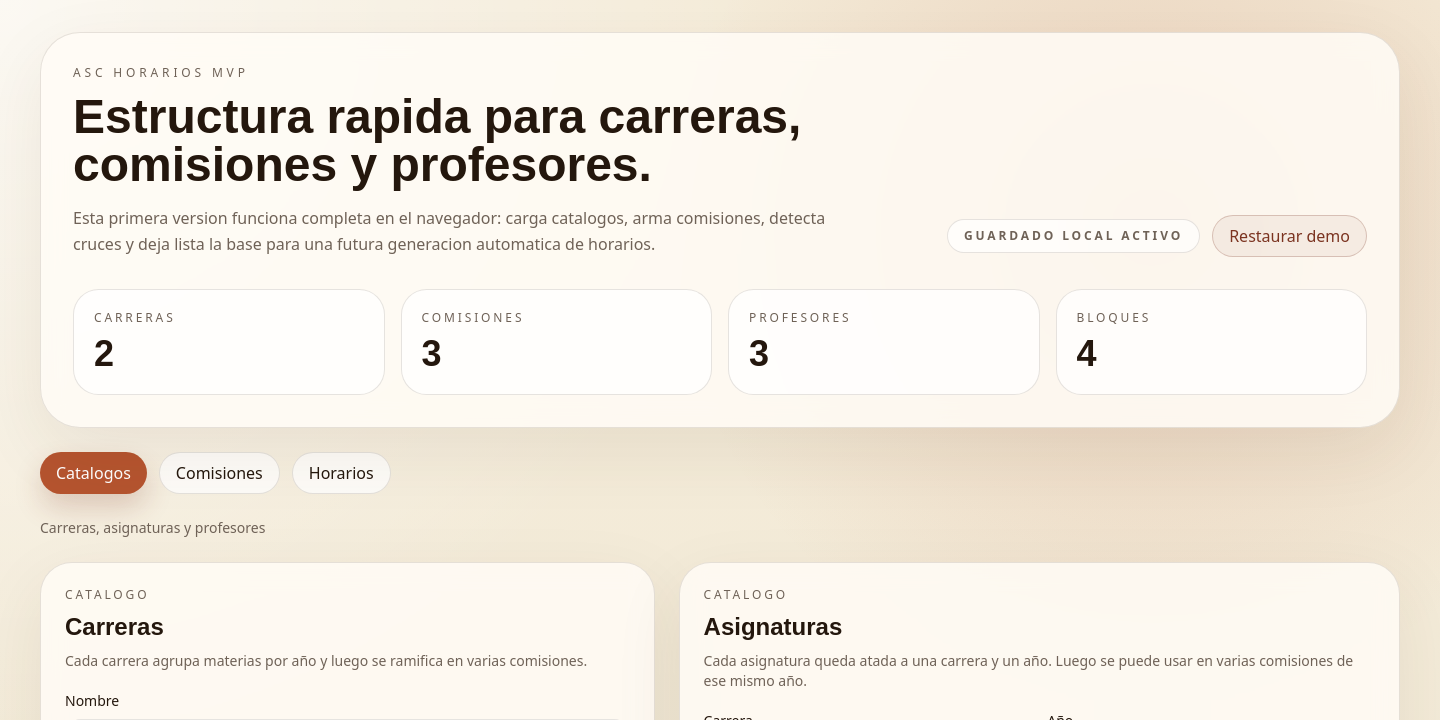
Test case: AppShell › shows pending blocks in the board view too
Click the button "Horarios": (341, 473) [292, 452, 391, 494]
(page scrolled)
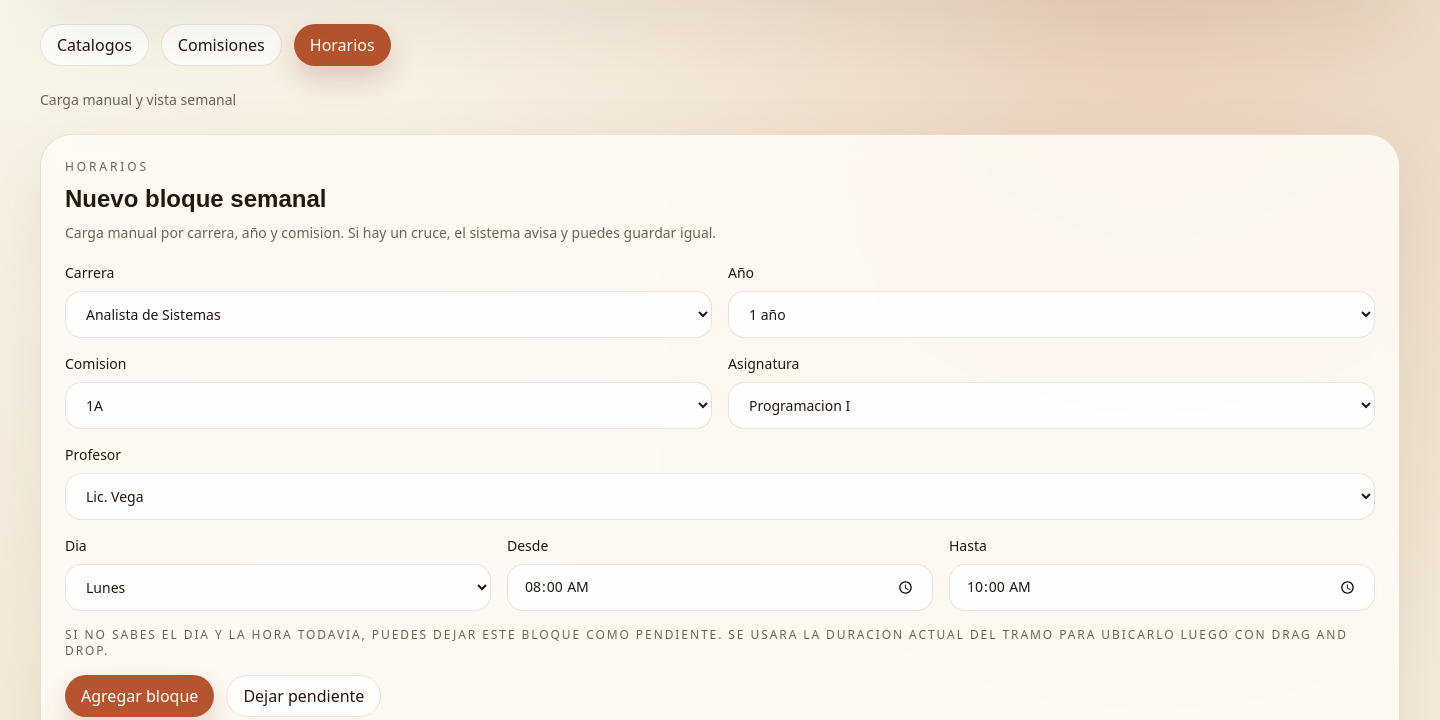
Select "Arquitectura de Computadoras" in the dropdown labelled "Asignatura": (1052, 406) [728, 382, 1375, 429]
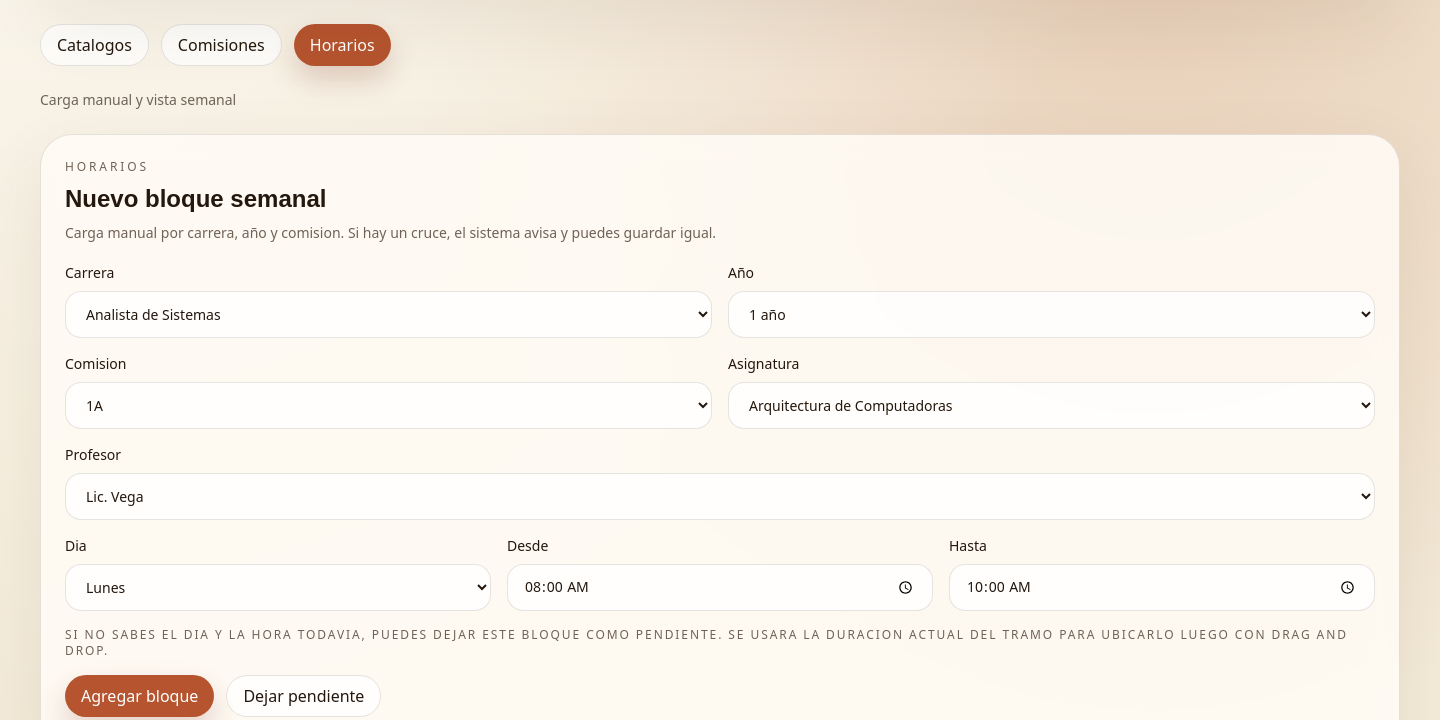
Click the button "Dejar pendiente": (304, 696) [226, 675, 381, 717]
(page scrolled)
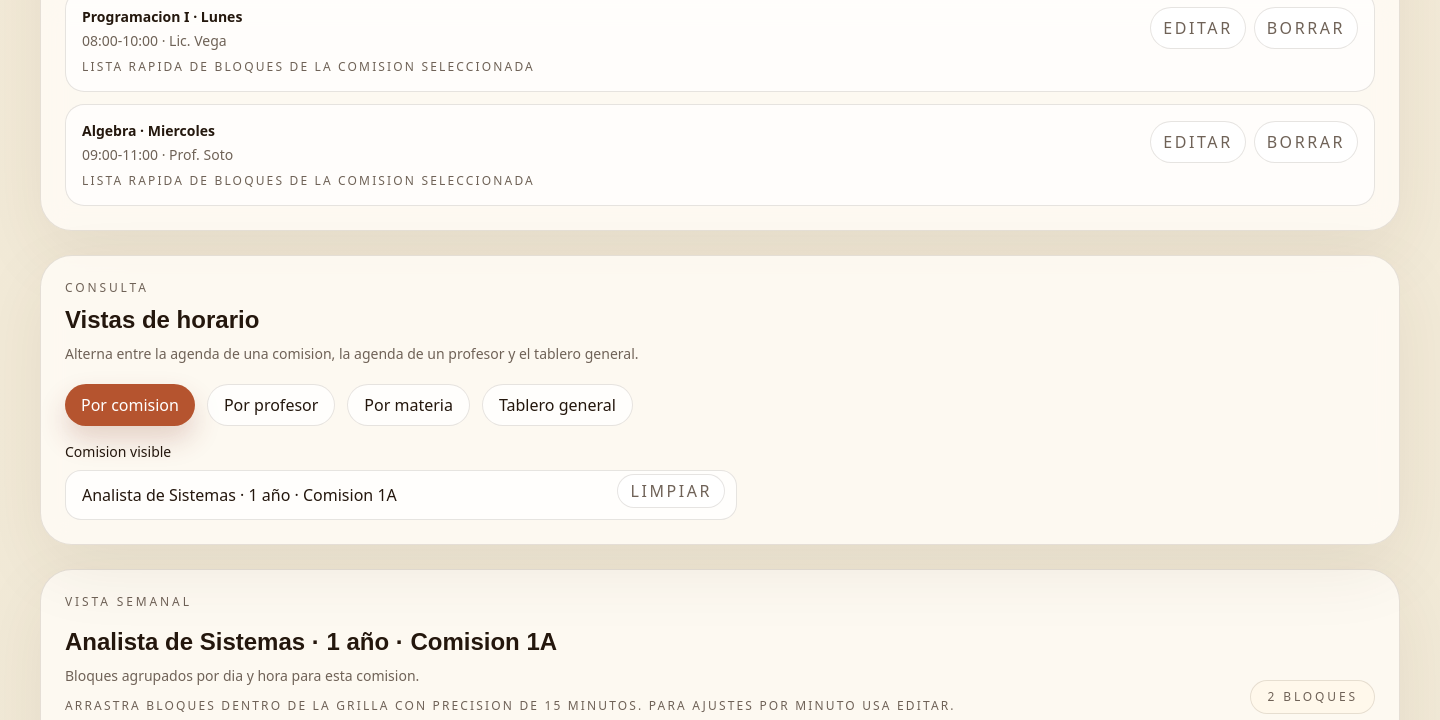
Click the button "Tablero general": (557, 405) [482, 384, 633, 426]
(page scrolled)
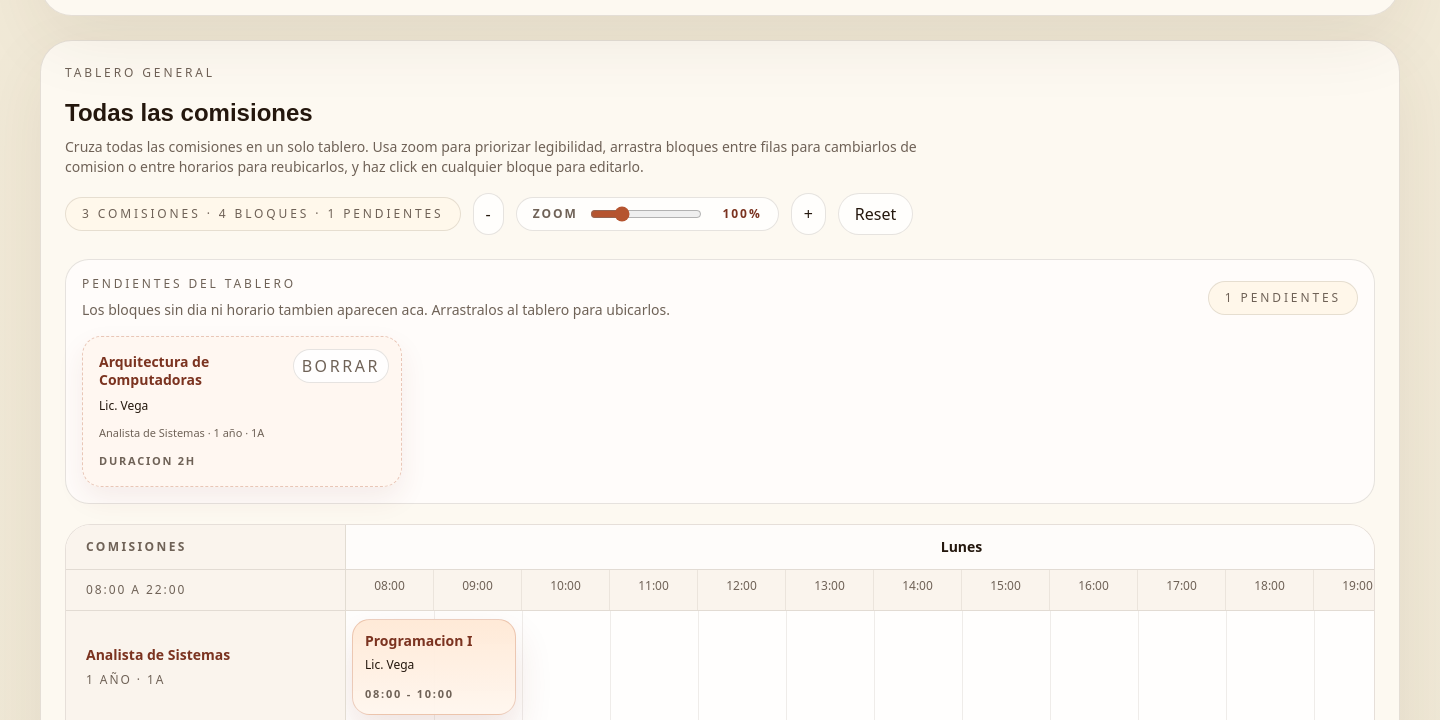
Expected: the text "Arquitectura de Computadoras" is shown, [99, 352, 209, 388]
Expected: the text "Lic. Vega" below "Pendientes del tablero" is shown, [99, 397, 148, 414]
Expected: the text "Pendientes del tablero" is shown, [82, 275, 296, 292]
